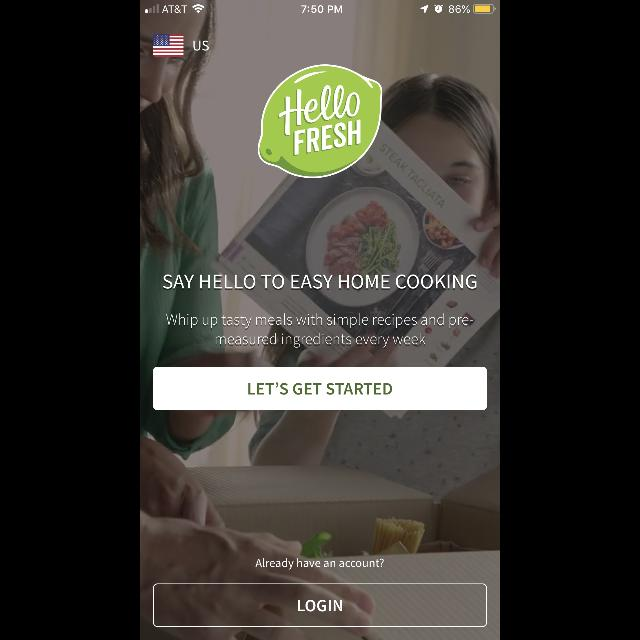backgroundimage: (140, 15, 500, 640)
image: (258, 64, 382, 178), (153, 34, 184, 58)
text: (166, 314, 474, 348), (164, 274, 476, 290), (256, 558, 384, 570), (194, 41, 208, 51)
textbutton: (153, 583, 487, 627), (154, 366, 486, 410)
uppertaskbar: (140, 0, 500, 14)
